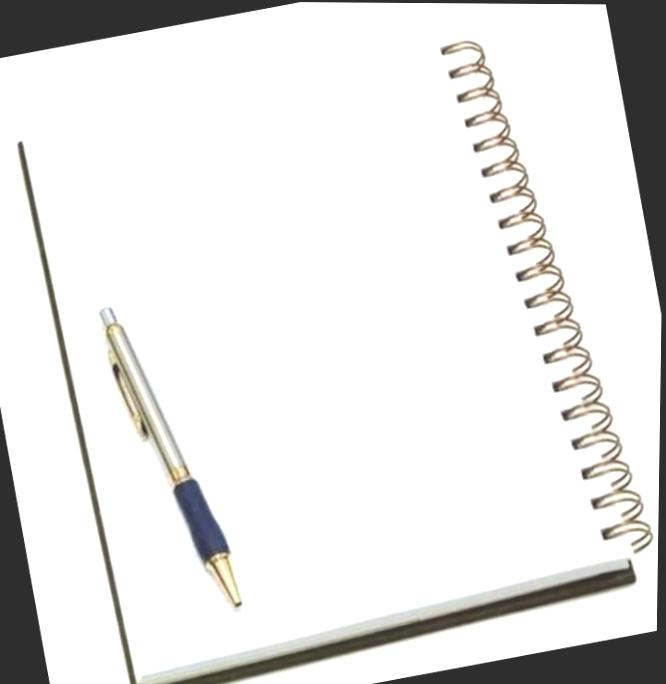pen-pencil: (102, 308, 243, 608)
